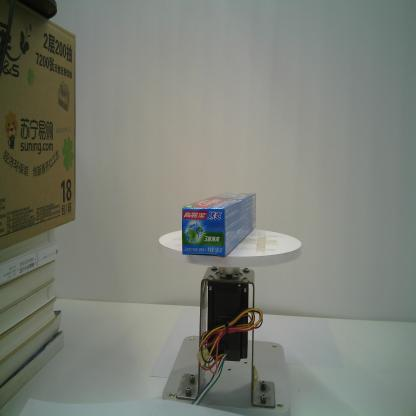Personal Hygiene: (181, 192, 257, 258)
